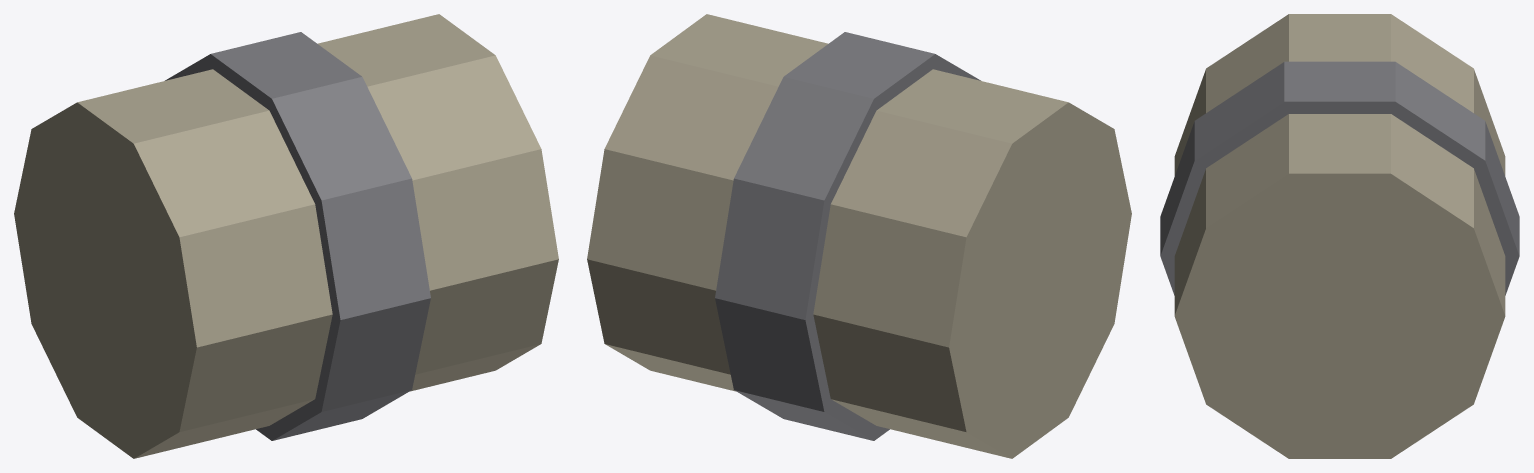
The model's file is improvised_bandage.glb.
3 renders of one model, left to right at view 1: azimuth 30°, elevation 25°; view 2: azimuth 150°, elevation 25°; view 3: azimuth 270°, elevation 25°, orthographic. The views are drawn at different scales.
Visible parts, largest first — view 1: improvised_bandage; view 2: improvised_bandage; view 3: improvised_bandage.
Part boxes in pixels (box(x1,y1,x2,y2)): improvised_bandage: box(14, 14, 558, 458); improvised_bandage: box(587, 14, 1131, 458); improvised_bandage: box(1160, 14, 1519, 458).
Bounding box in the file's own units: 0.08 × 0.0723 × 0.076.
